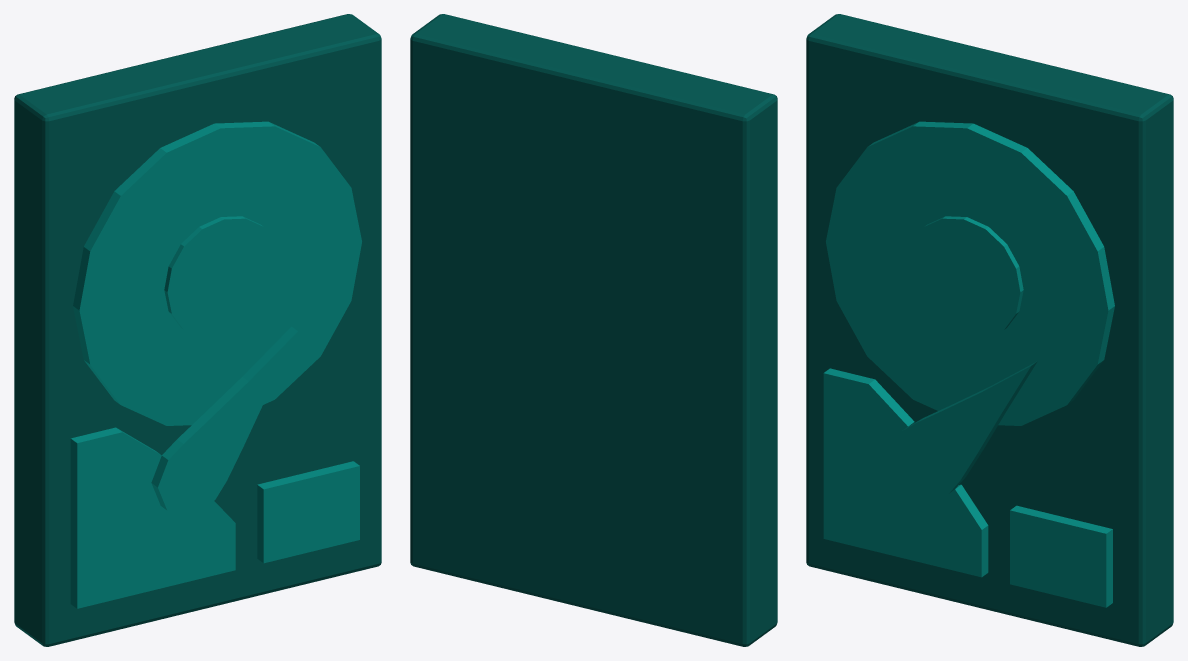
File: Hard_Drive_Failed.fbx
3 views of the same model, side by side, from view 1: azimuth 30°, elevation 25°; view 2: azimuth 150°, elevation 25°; view 3: azimuth 330°, elevation 25° (orthographic).
Parts seen in each view (by area): view 1: Hard Drive.001; view 2: Hard Drive.001; view 3: Hard Drive.001.
Part boxes in pixels (left/top/right/bottom): Hard Drive.001: left=14, top=14, right=381, bottom=646; Hard Drive.001: left=410, top=14, right=777, bottom=646; Hard Drive.001: left=806, top=14, right=1173, bottom=646.
Size of the model in its own units: 30 by 45 by 7.
